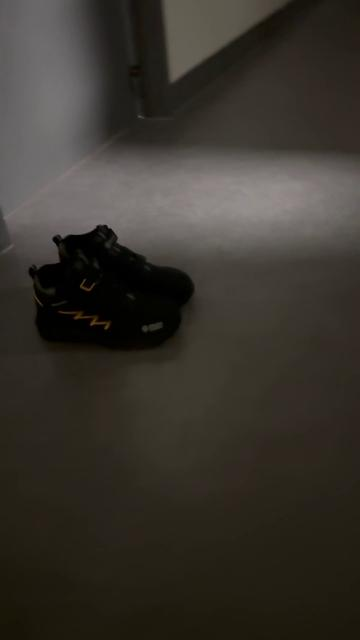shoe_worn: (28, 261, 187, 347), (51, 226, 197, 304)
